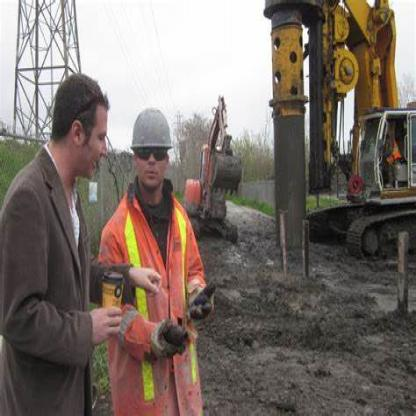person: (104, 90, 213, 415), (4, 66, 103, 414)
